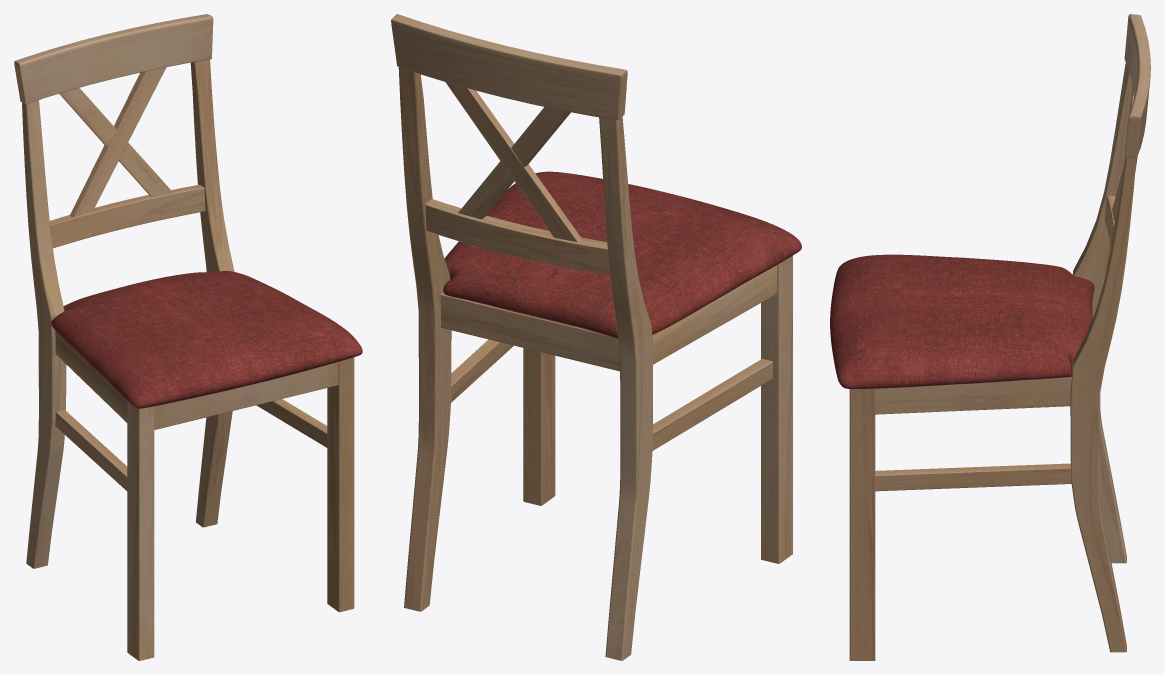
Rendered from abo-B07K7K7GLP.glb.
The picture shows the model from 3 angles, left to right: view 1: azimuth 30°, elevation 25°; view 2: azimuth 150°, elevation 25°; view 3: azimuth 270°, elevation 25°; orthographic projection. The views are drawn at different scales.
Size of the model in its own units: 0.439 by 0.912 by 0.492.
1 material, 1 textured.
